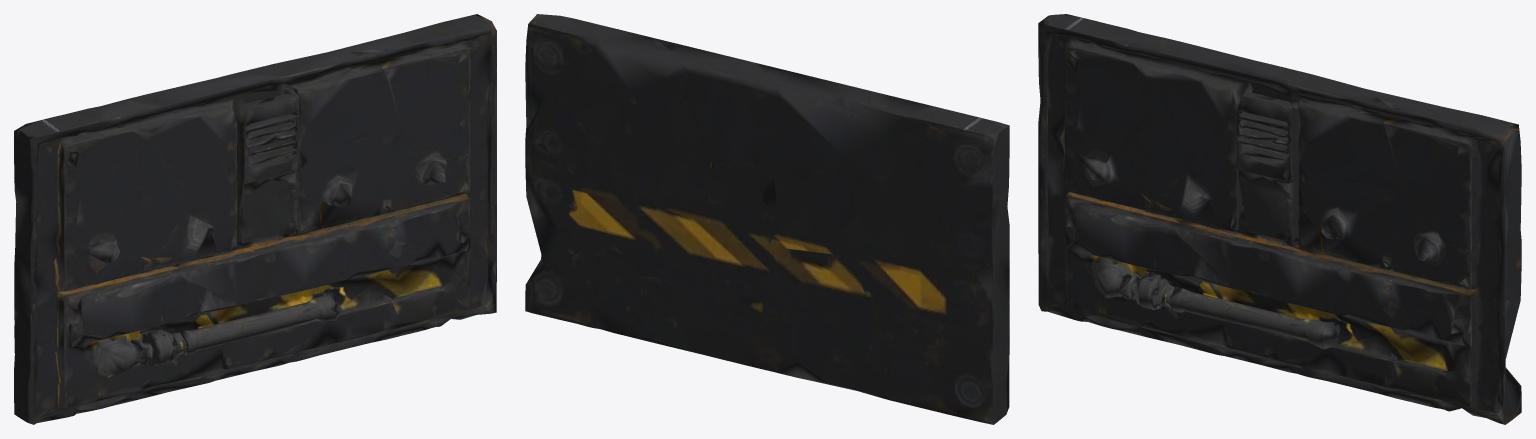
3 renders of one model, left to right at view 1: azimuth 30°, elevation 25°; view 2: azimuth 150°, elevation 25°; view 3: azimuth 330°, elevation 25°, orthographic.
Size of the model in its own units: 1 by 0.5901 by 0.1212.
1 material, 1 textured.
